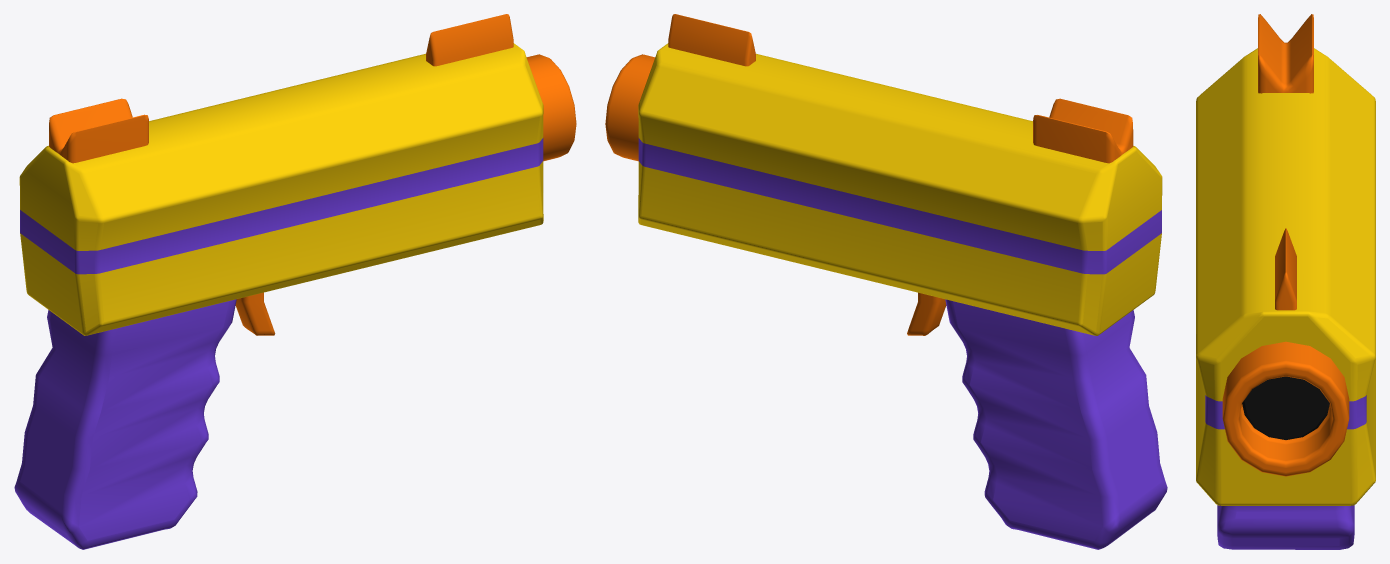
The model's file is DartGun.fbx.
The picture shows the model from 3 angles, left to right: view 1: azimuth 30°, elevation 25°; view 2: azimuth 150°, elevation 25°; view 3: azimuth 270°, elevation 25°; orthographic projection. The views are drawn at different scales.
Parts seen in each view (by area): view 1: Dart Gun; view 2: Dart Gun; view 3: Dart Gun.
Part boxes in pixels (left/top/right/bottom): Dart Gun: left=14, top=14, right=576, bottom=549; Dart Gun: left=605, top=14, right=1167, bottom=549; Dart Gun: left=1196, top=14, right=1375, bottom=549.
Bounding box in the file's own units: 0.1902 × 0.1453 × 0.0483.
